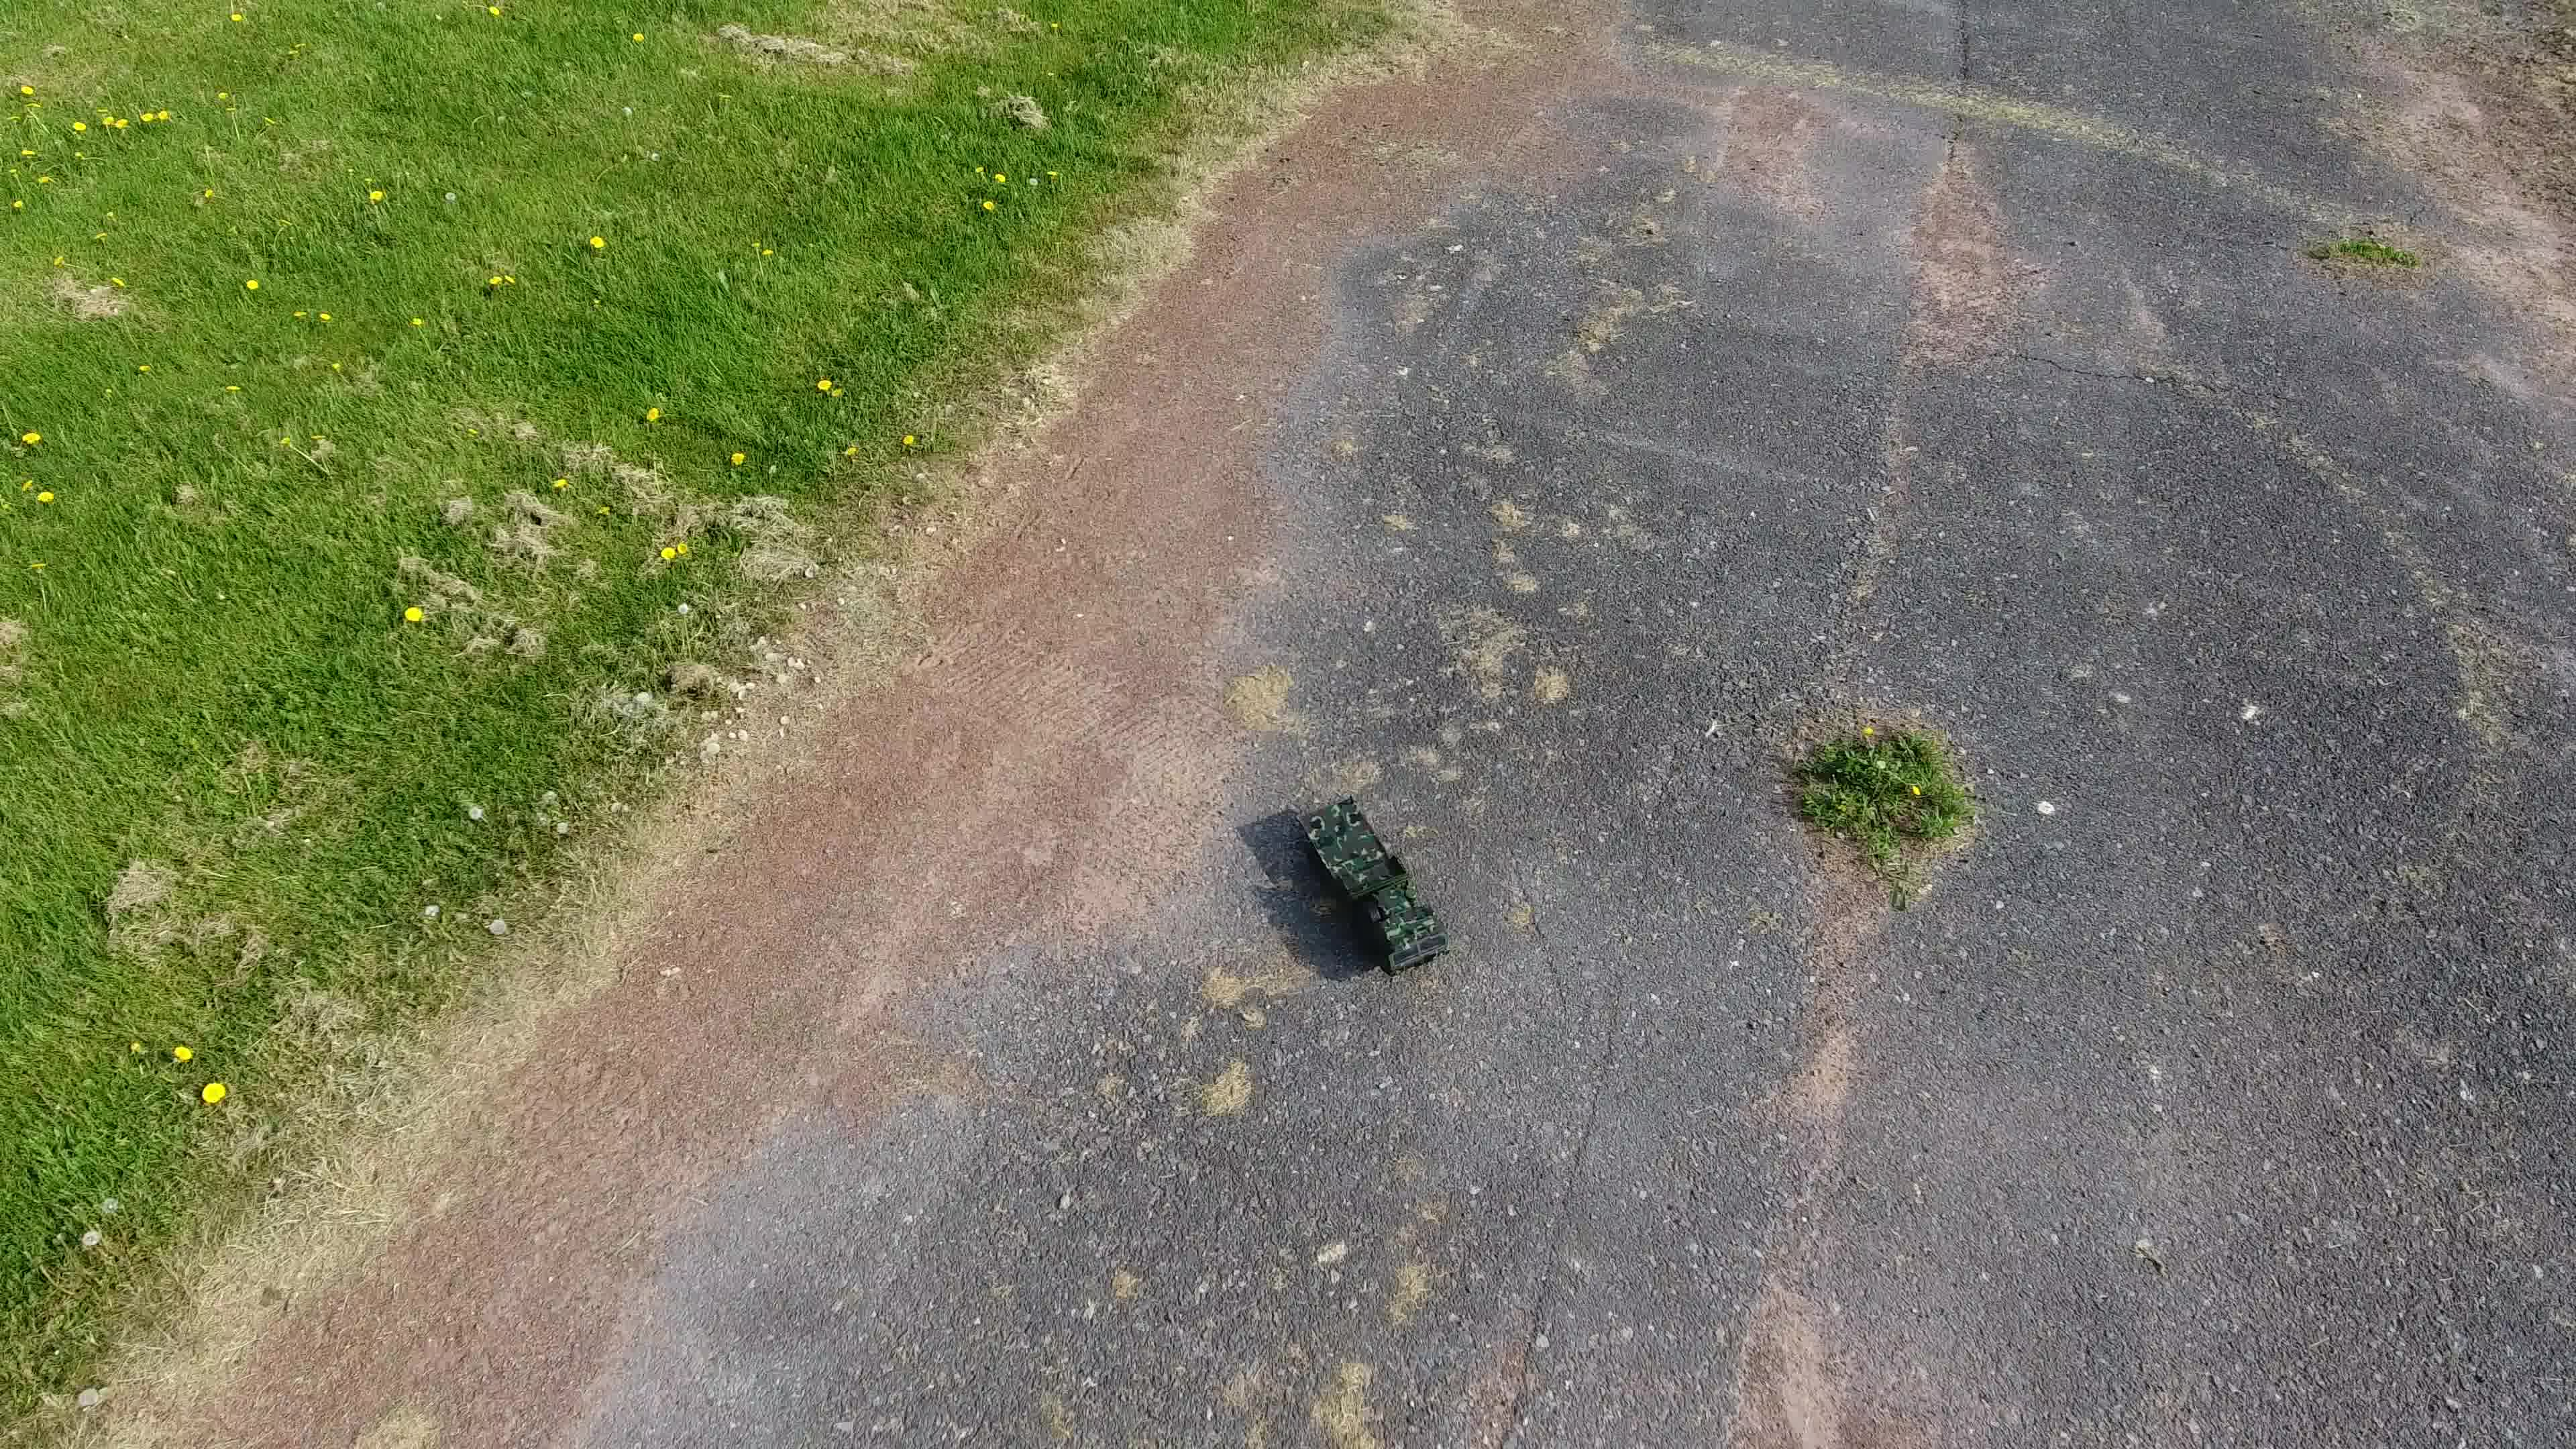transporter9_camo: (1288, 793, 1454, 978)
